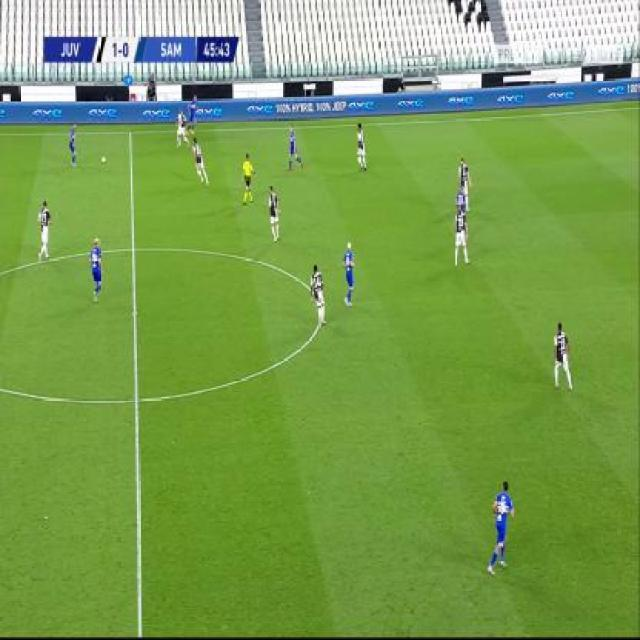ball: (101, 154, 107, 165)
player: (485, 475, 521, 577), (552, 319, 575, 390), (88, 236, 107, 302), (453, 206, 472, 269), (341, 242, 358, 308), (309, 263, 326, 326), (191, 138, 210, 191), (36, 199, 52, 261), (241, 151, 258, 205), (265, 185, 281, 242), (287, 123, 304, 174), (355, 121, 369, 174), (458, 156, 471, 212), (185, 95, 201, 137), (174, 110, 190, 149), (69, 122, 80, 167), (456, 185, 467, 216)
